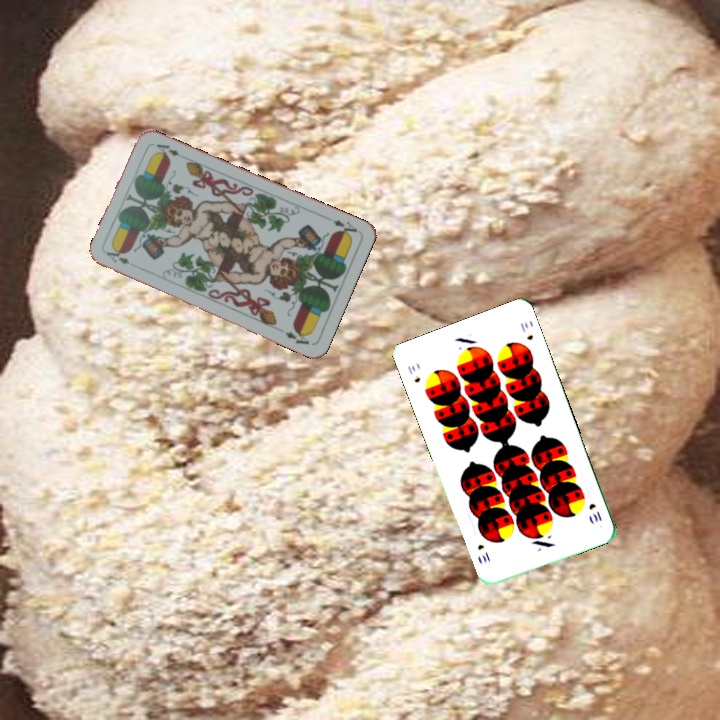EA: (329, 216, 360, 239), (102, 248, 132, 267)
S10: (585, 499, 604, 525), (403, 361, 423, 385)
